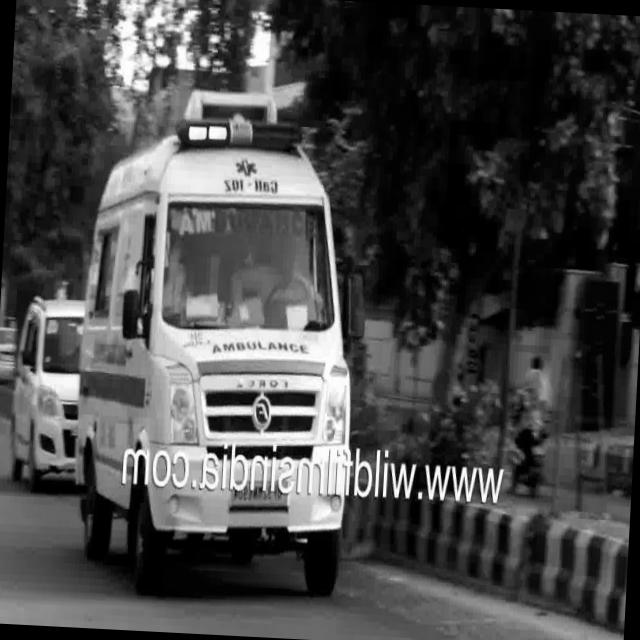ambulance: (63, 77, 364, 425)
